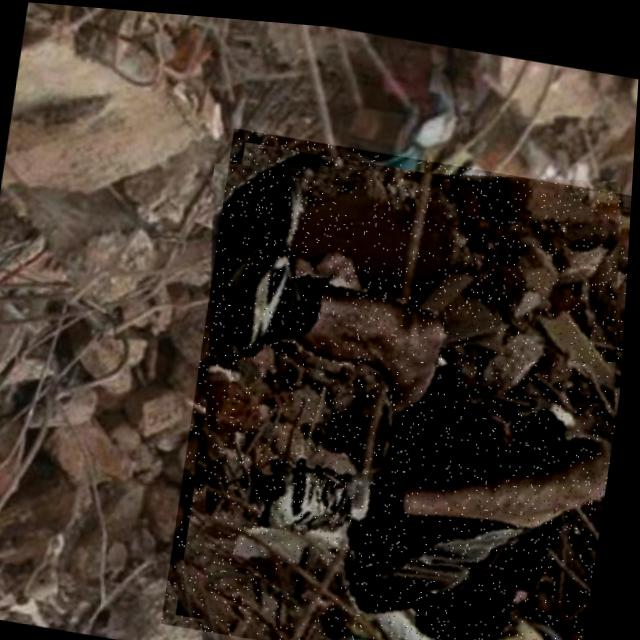Person in Rubble: (165, 120, 635, 640)
